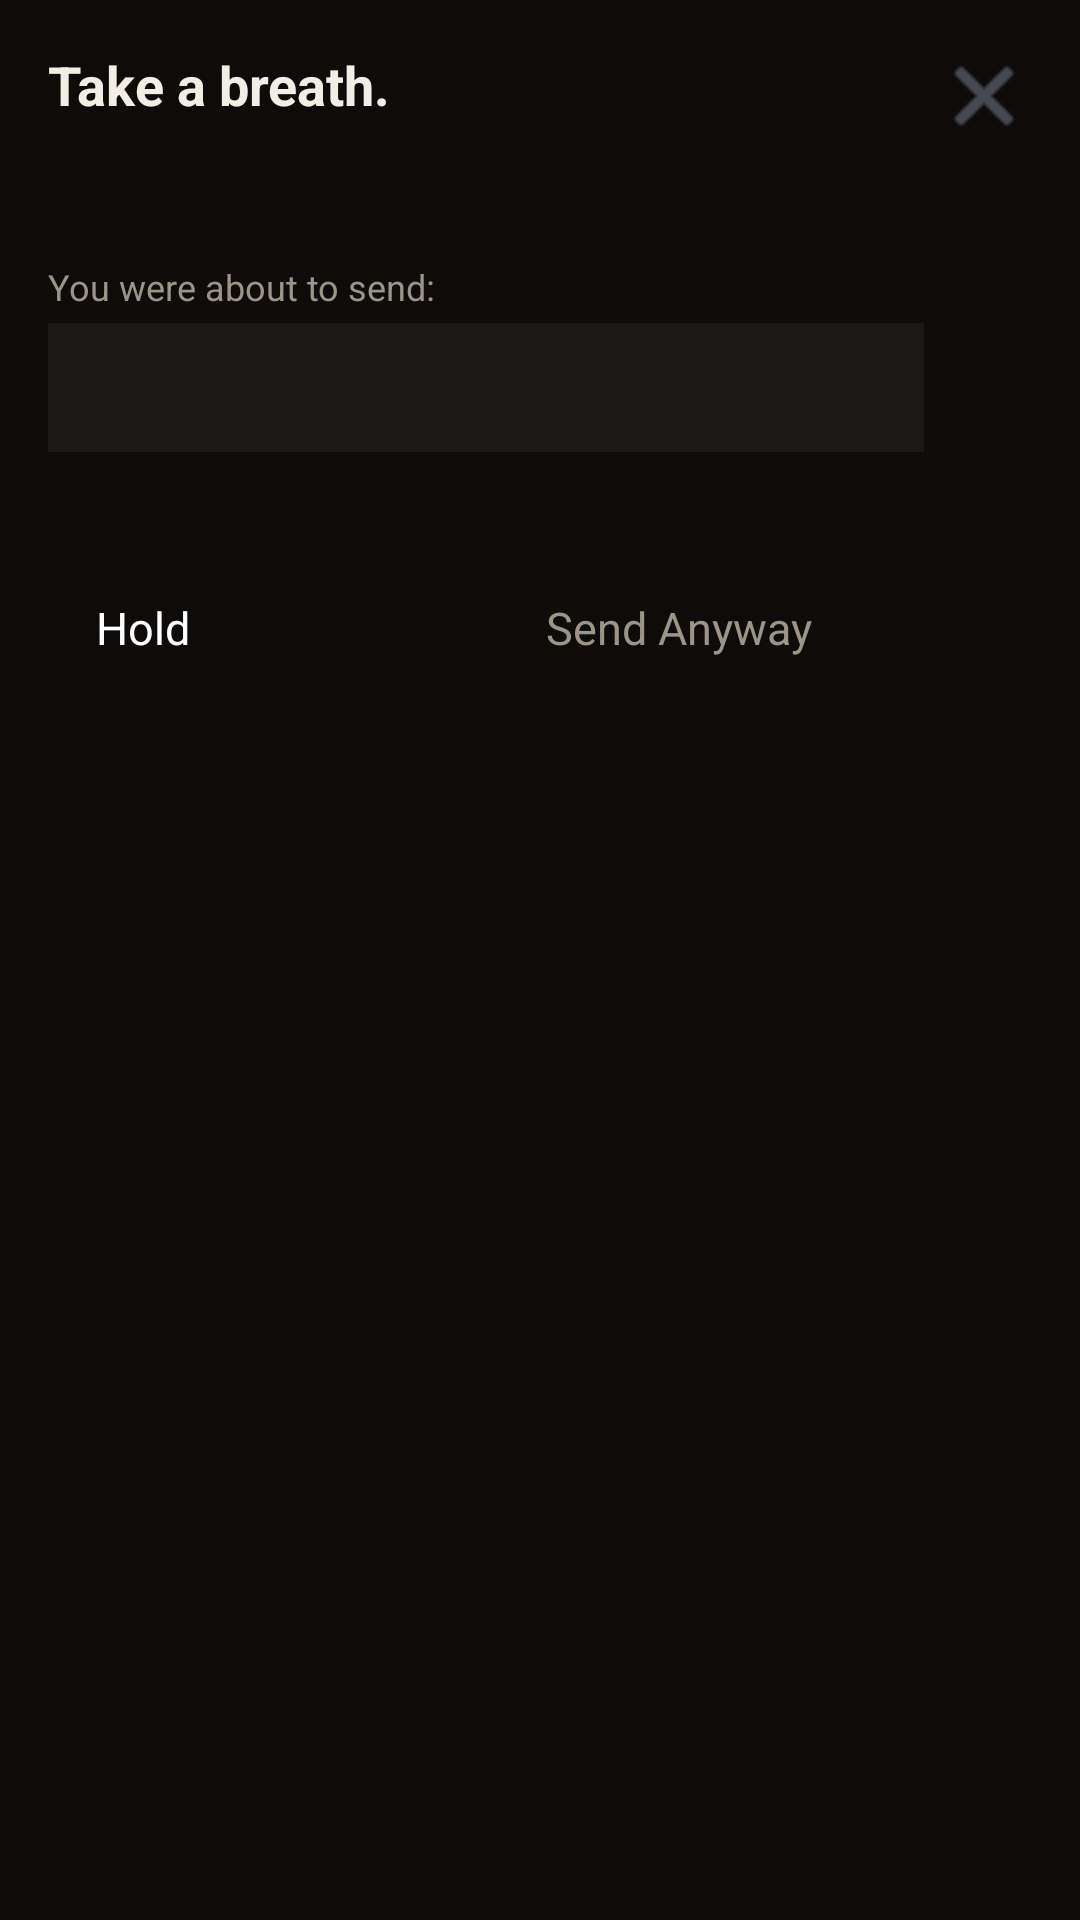

Point at icon controls on the screen. Image size 1080w x 1920h, points as (x,y).
Dismiss: (984,96)
